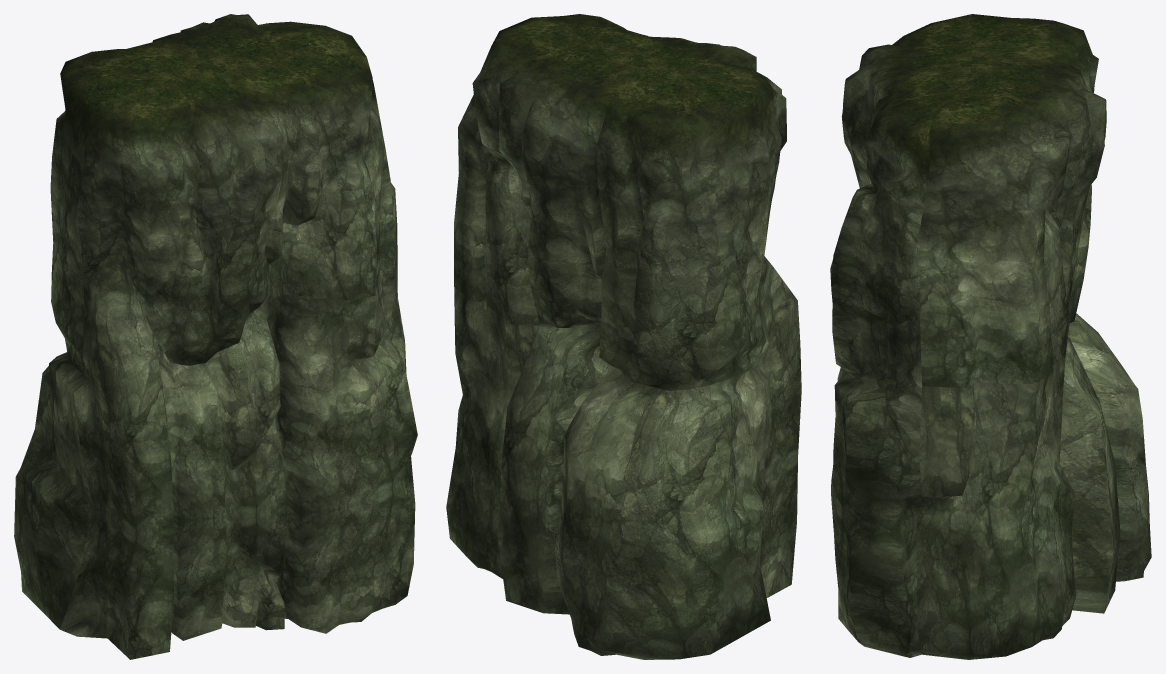
The model's file is s7_fightpve_shitou01.FBX.
3 views of the same model, side by side, from view 1: azimuth 30°, elevation 25°; view 2: azimuth 150°, elevation 25°; view 3: azimuth 270°, elevation 25° (orthographic). The views are drawn at different scales.
Visible parts, largest first — view 1: DrawCall_0064; view 2: DrawCall_0064; view 3: DrawCall_0064.
Part boxes in pixels (x1,y1,x2,y2): DrawCall_0064: (14, 14, 417, 659); DrawCall_0064: (446, 14, 801, 659); DrawCall_0064: (830, 14, 1151, 659).
Size of the model in its own units: 1629 by 2609 by 1403.
